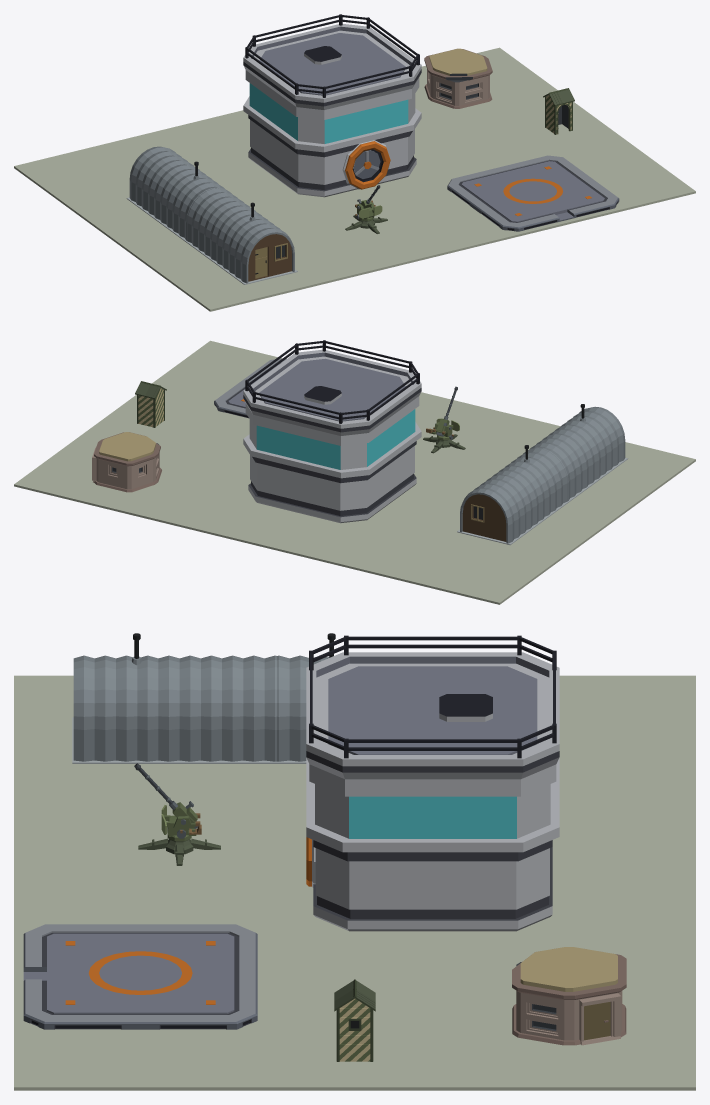
Rendered from military_base.glb.
3 renders of one model, top to bottom at view 1: azimuth 30°, elevation 25°; view 2: azimuth 150°, elevation 25°; view 3: azimuth 270°, elevation 25°, orthographic. The views are drawn at different scales.
Visible parts, largest first — view 1: ground, hull, nissen-hut (×2), pad, pillbox, railing, sentry-box-shell, hatch; view 2: ground, hull, nissen-hut (×2), pillbox, railing, sentry-box-shell, pad; view 3: ground, hull, nissen-hut (×2), pad, pillbox, railing, sentry-box-shell, door-leaf, gun-base, gun-carriage.
Boxes of the visible parts, <box> form: ground: <box>14,47,695,311</box>; hull: <box>243,24,421,197</box>; nissen-hut (×2): <box>126,146,297,284</box>; pad: <box>447,155,619,231</box>; pillbox: <box>424,48,492,108</box>; railing: <box>245,14,419,97</box>; sentry-box-shell: <box>543,88,574,134</box>; hatch: <box>353,150,380,178</box>; ground: <box>14,340,695,604</box>; hull: <box>243,349,421,523</box>; nissen-hut (×2): <box>457,406,628,545</box>; pillbox: <box>92,432,161,492</box>; railing: <box>245,340,419,423</box>; sentry-box-shell: <box>135,381,166,427</box>; pad: <box>214,358,286,418</box>; ground: <box>14,675,695,1090</box>; hull: <box>306,652,559,931</box>; nissen-hut (×2): <box>72,655,327,763</box>; pad: <box>23,924,257,1029</box>; pillbox: <box>512,947,626,1045</box>; railing: <box>309,635,556,758</box>; sentry-box-shell: <box>334,979,375,1061</box>; door-leaf: <box>584,1002,610,1040</box>; gun-base: <box>138,838,220,865</box>; gun-carriage: <box>167,813,201,841</box>.
Size of the model in its own units: 100 by 22.3 by 70.
